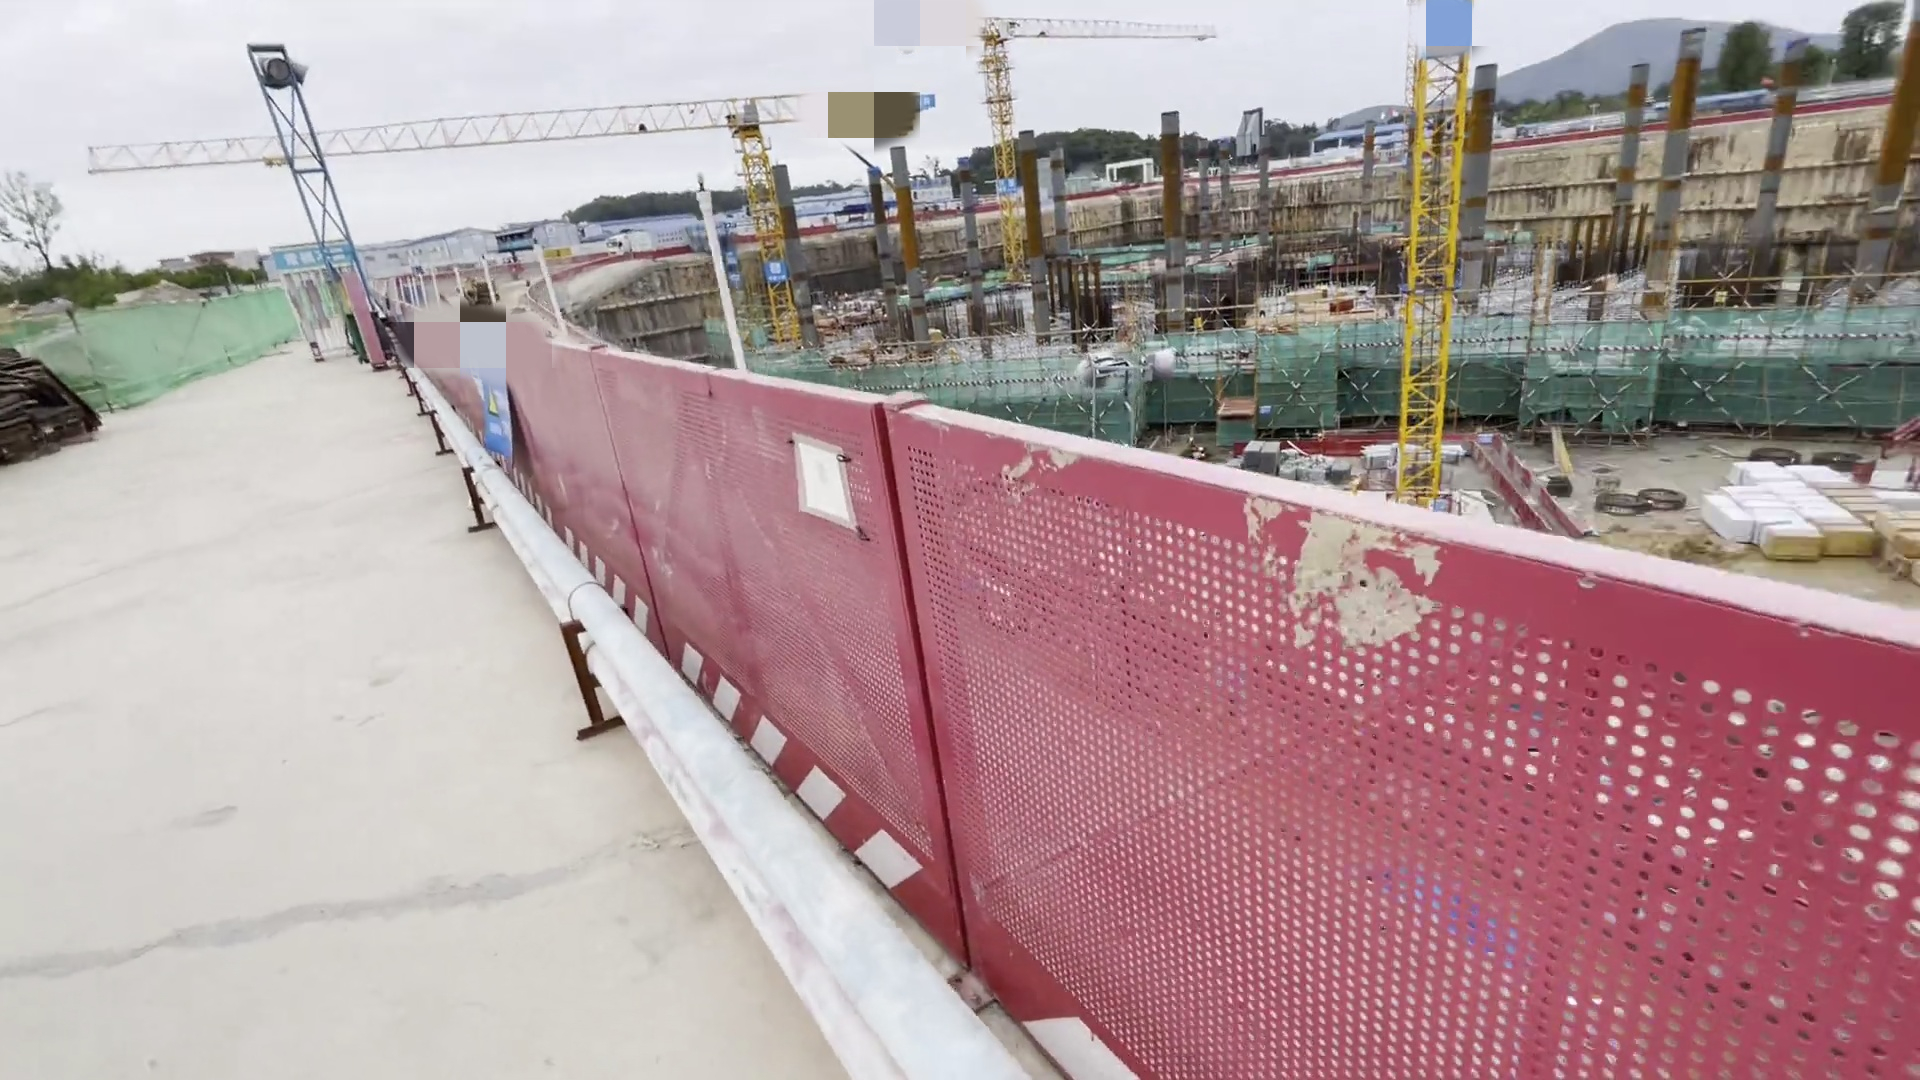board: (1734, 459, 1920, 555)
fence: (407, 320, 1903, 1080), (1316, 417, 1613, 545)
slogan: (469, 344, 520, 465), (273, 235, 357, 277), (717, 248, 741, 295), (761, 255, 791, 281)
